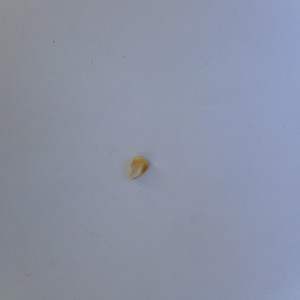maiz: (126, 153, 154, 184)
